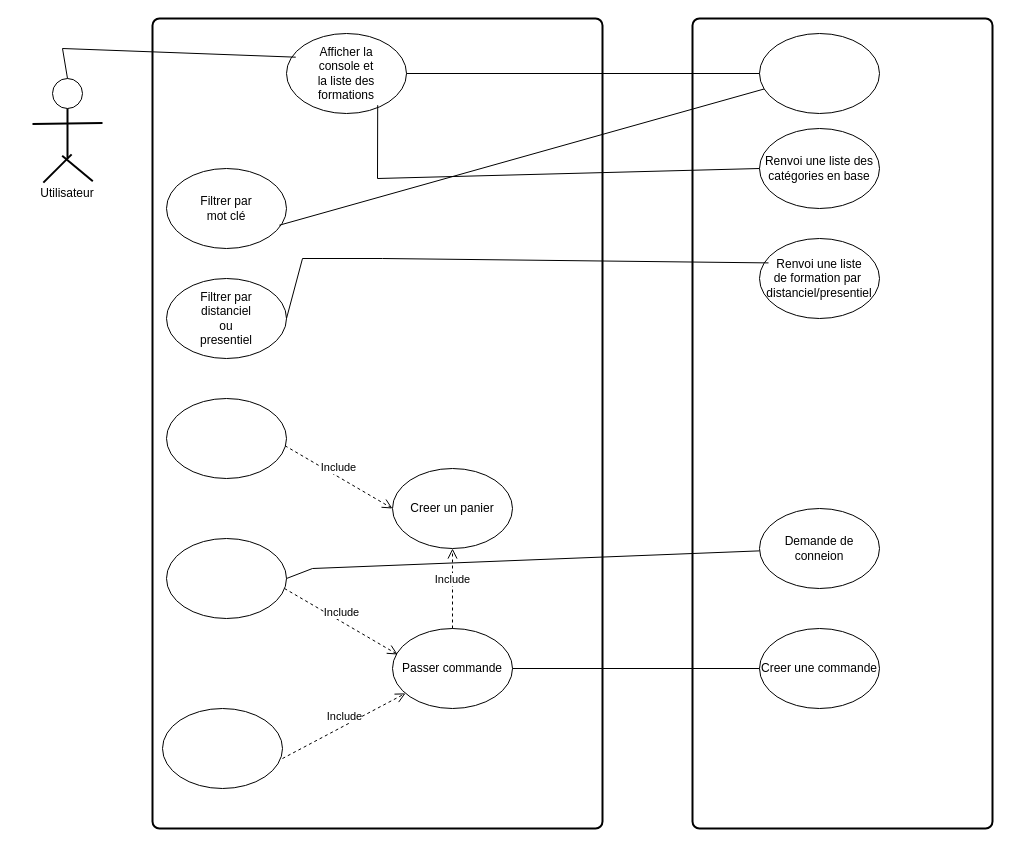
Some shapes in this 1011 by 846 pixel diagram are drawn without their labels. The centre of each missing label's shape, as x and y in pixels:
Ajouter/Supprimer du panier une formation: point (226, 438)
Connexion: point (226, 578)
Creer un client: point (222, 748)
Renvoi une liste de formation en base: point (819, 73)
